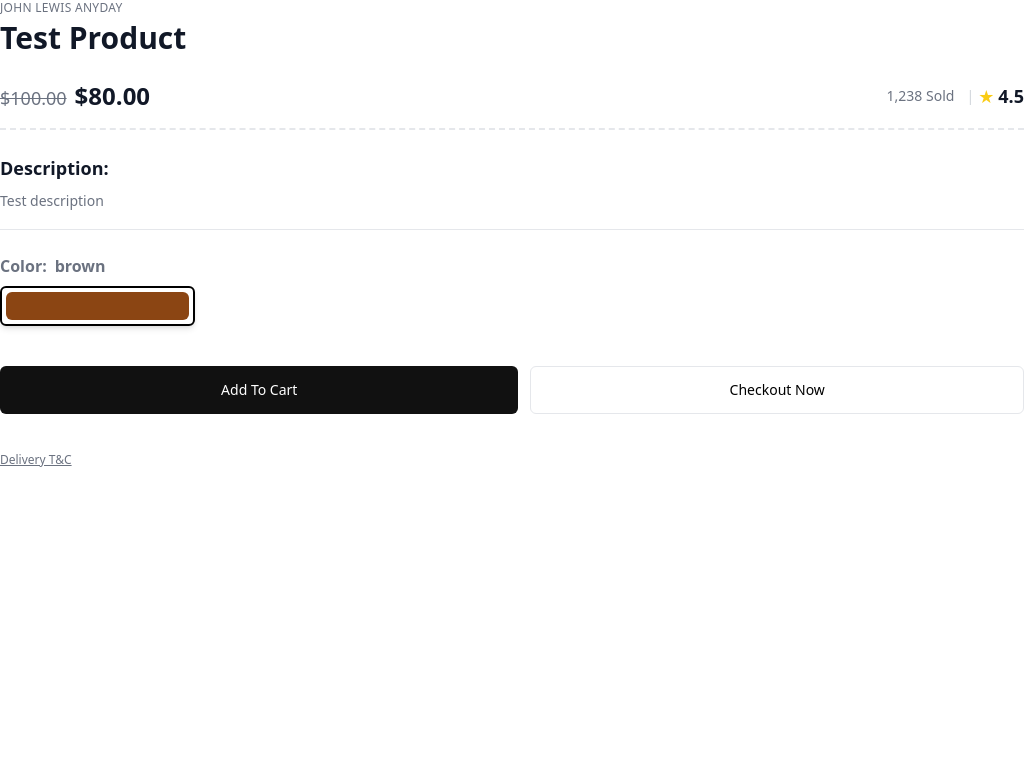
Test: clicking Add To Cart adds item and opens cart drawer
Check: the text "shopping cart" is not shown
What coordinates should you click on to do the following:
click the button "Add To Cart"
I would click on:
 (259, 390)
Its box is 0,366 -> 518,414.
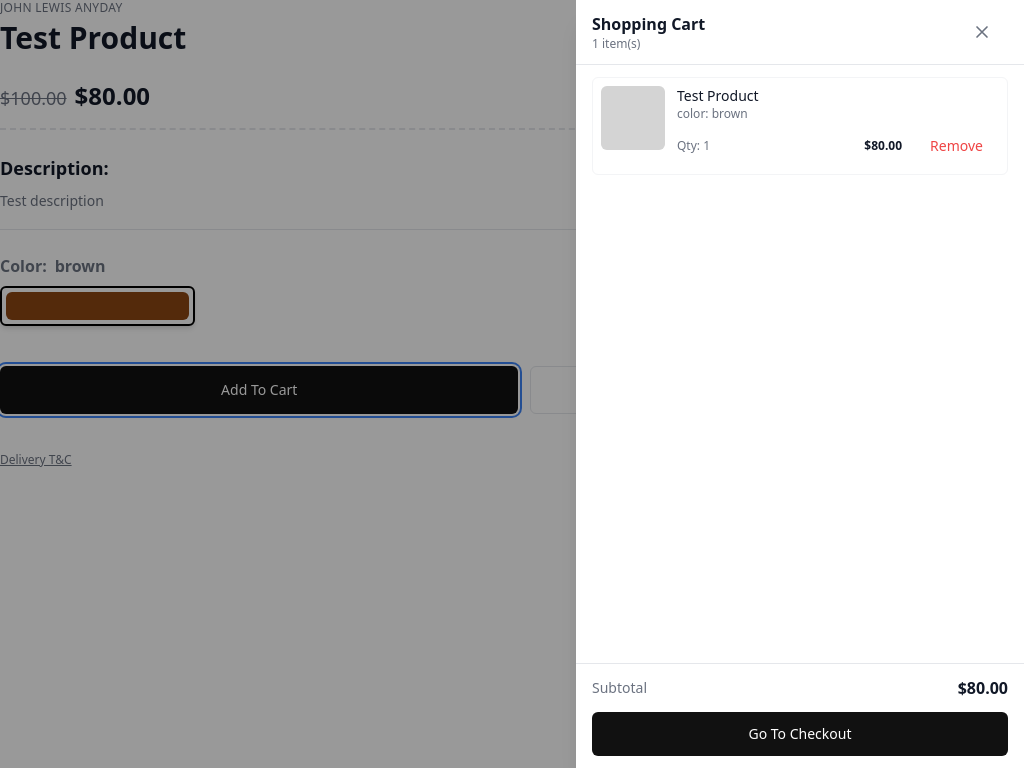
Check: the heading "Shopping Cart" is shown, box 592,12 -> 705,36
